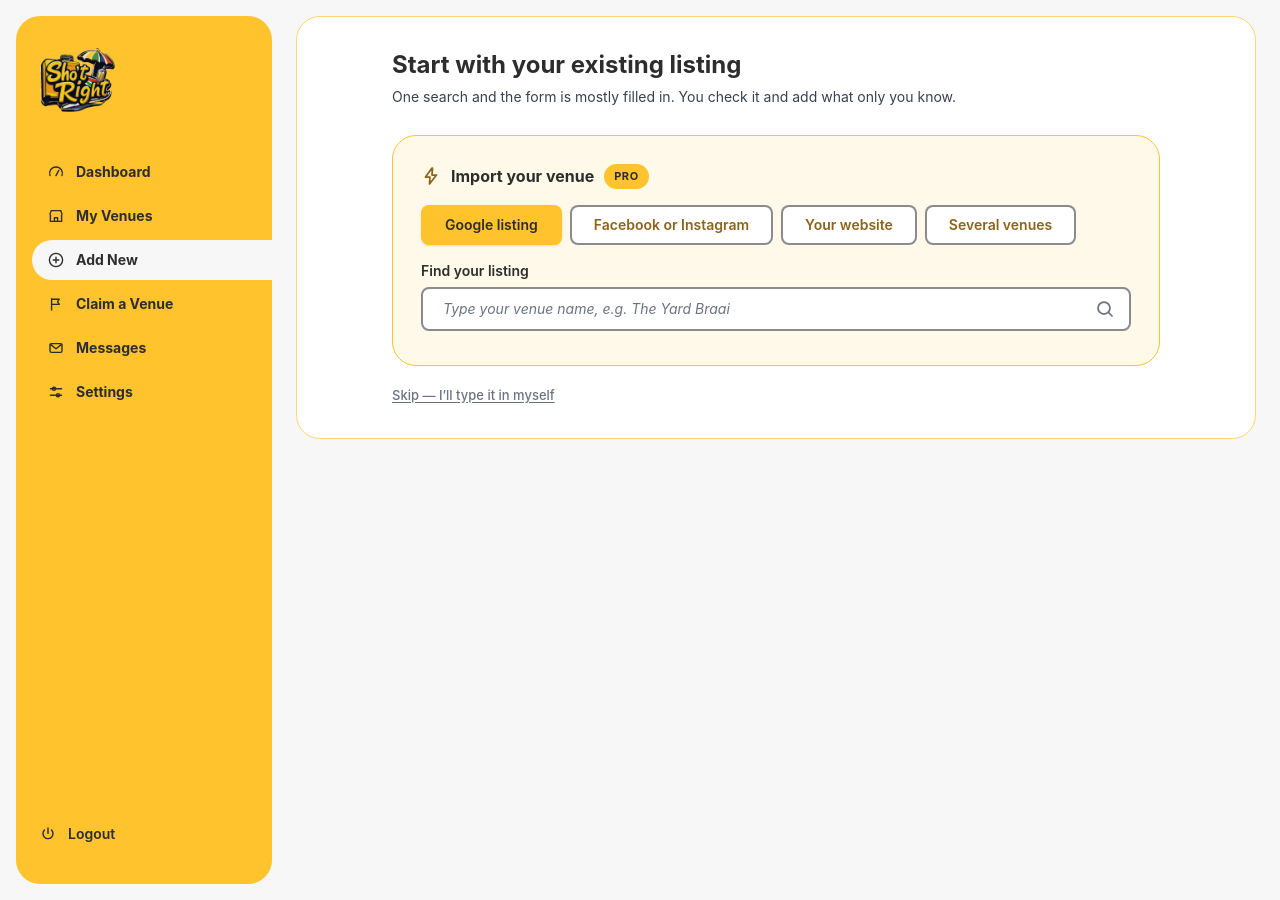
when the screen appears at all › offers the URL routes once that importer is deployed
Click the tab "Facebook or Instagram". click: (671, 224)
box: [570,204,773,244]
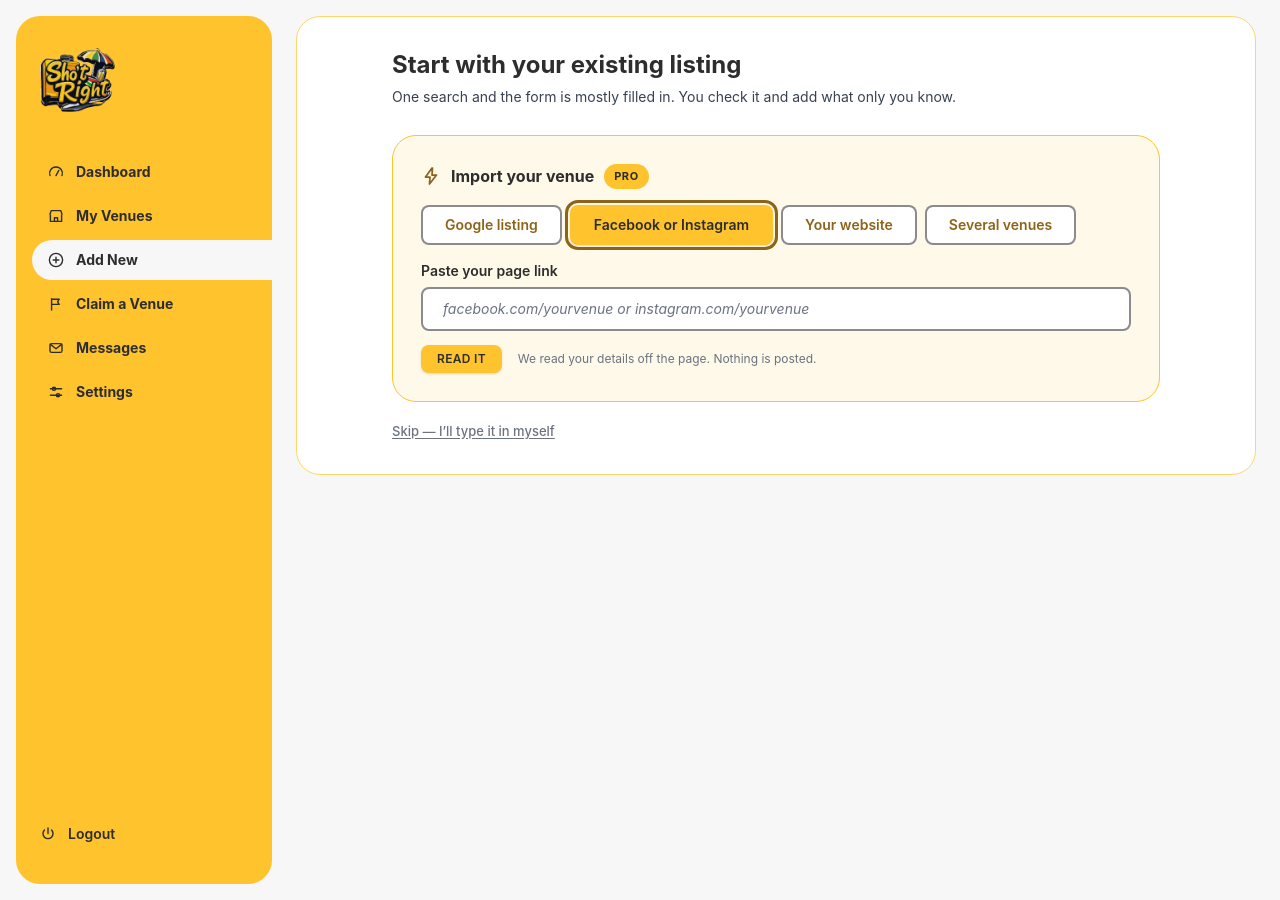
Now the field labelled "Paste your page link" is shown, box [421,286,1131,330]
